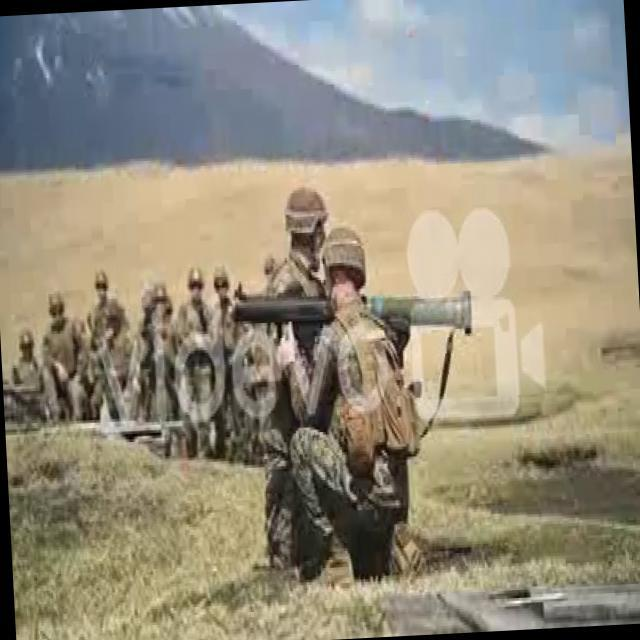rocket: (228, 271, 473, 353)
